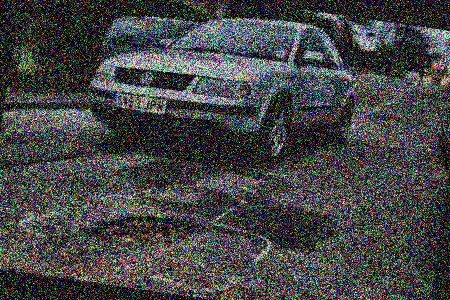pothole: (90, 206, 189, 254), (155, 177, 210, 196)
